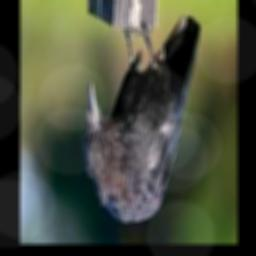Crow: (84, 13, 201, 223)
